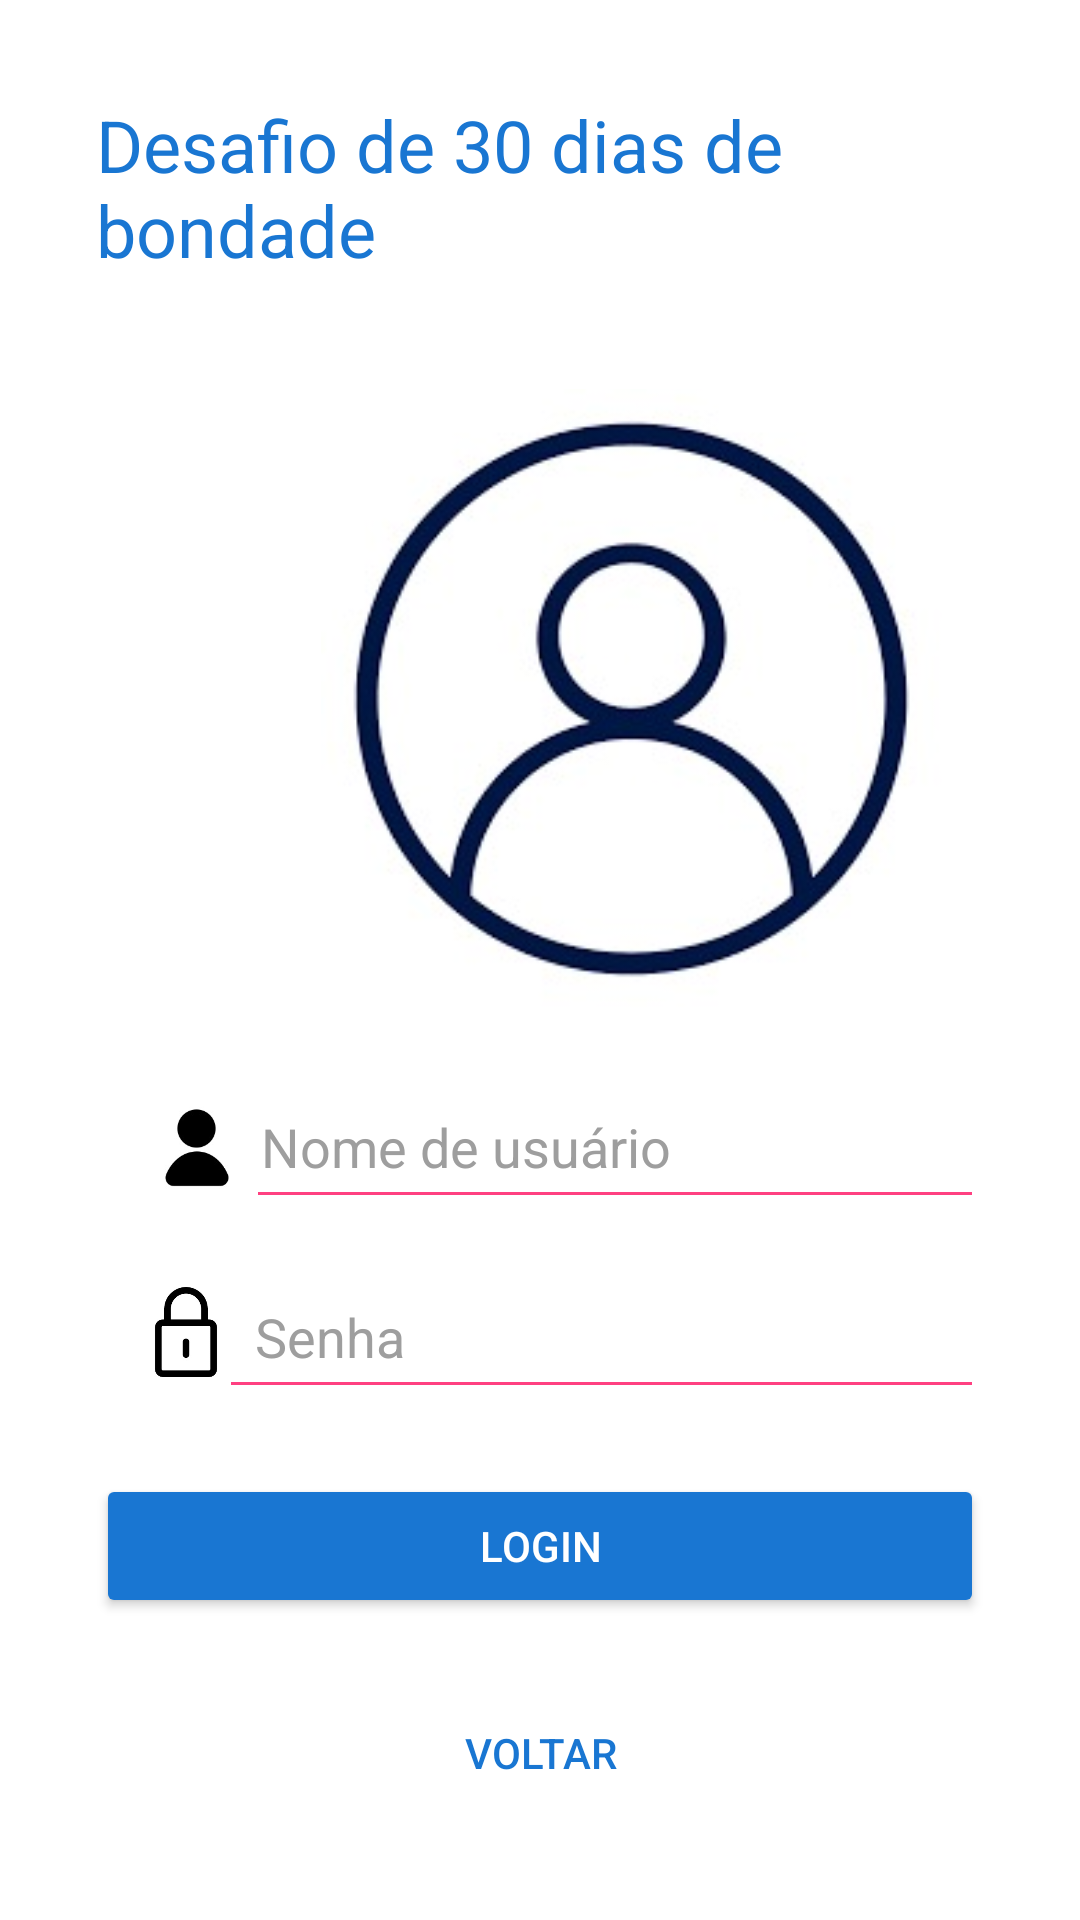

Icon bounding boxes for this 1080*1920 phone screenshot, format (x1, y1, x2, y2):
iconlogin: (165, 1109, 229, 1186)
